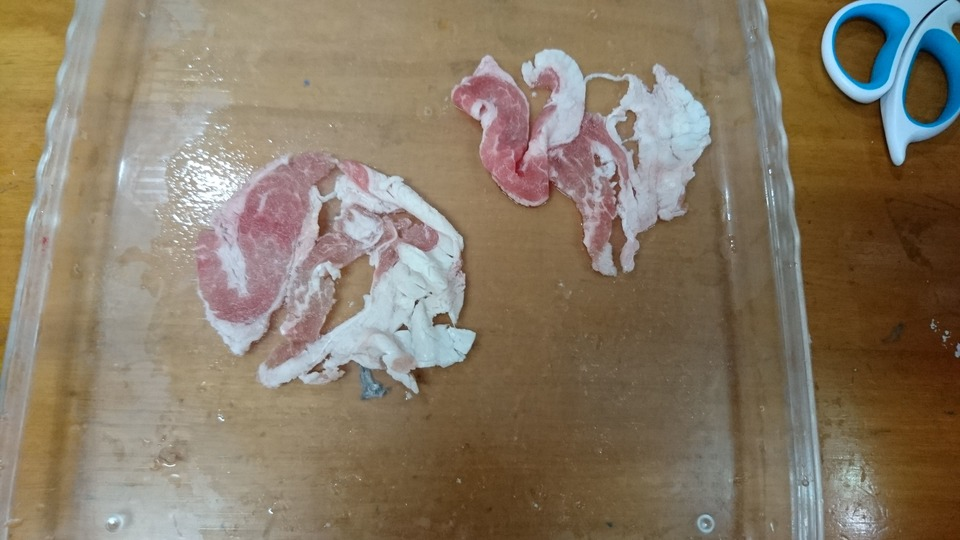restructured meat: (198, 143, 475, 382), (450, 44, 712, 277)
